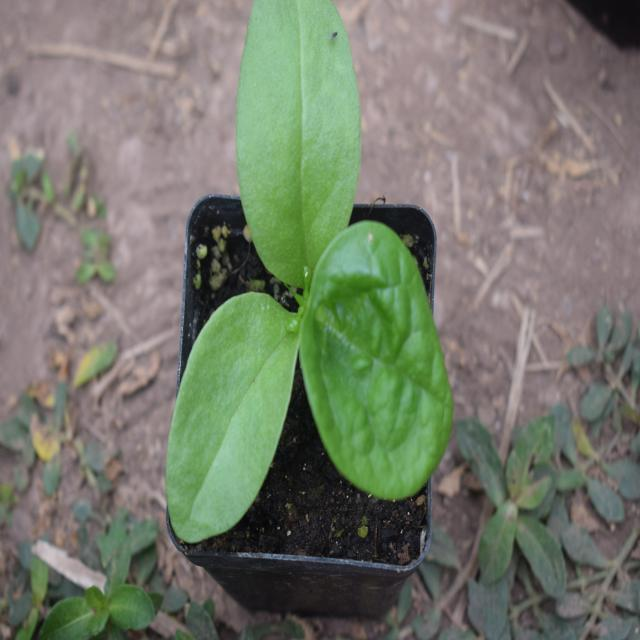Ceylon spinach: (175, 11, 456, 508)
